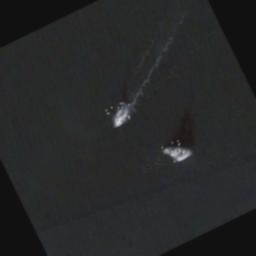boat: (160, 136, 193, 166), (106, 99, 137, 128)
